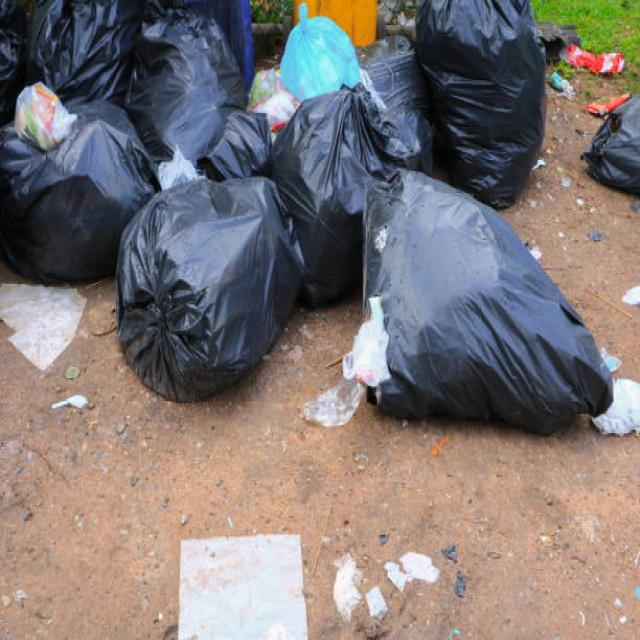garbage: (0, 2, 623, 433)
